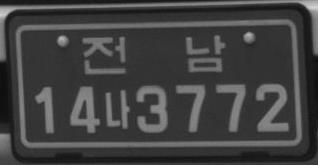1: (31, 85, 60, 135)
2: (254, 82, 290, 133)
3: (134, 84, 169, 134)
4: (68, 84, 101, 134)
7: (174, 82, 207, 134), (214, 82, 247, 132)
나: (103, 88, 130, 130)
전남_D: (81, 33, 226, 76)
